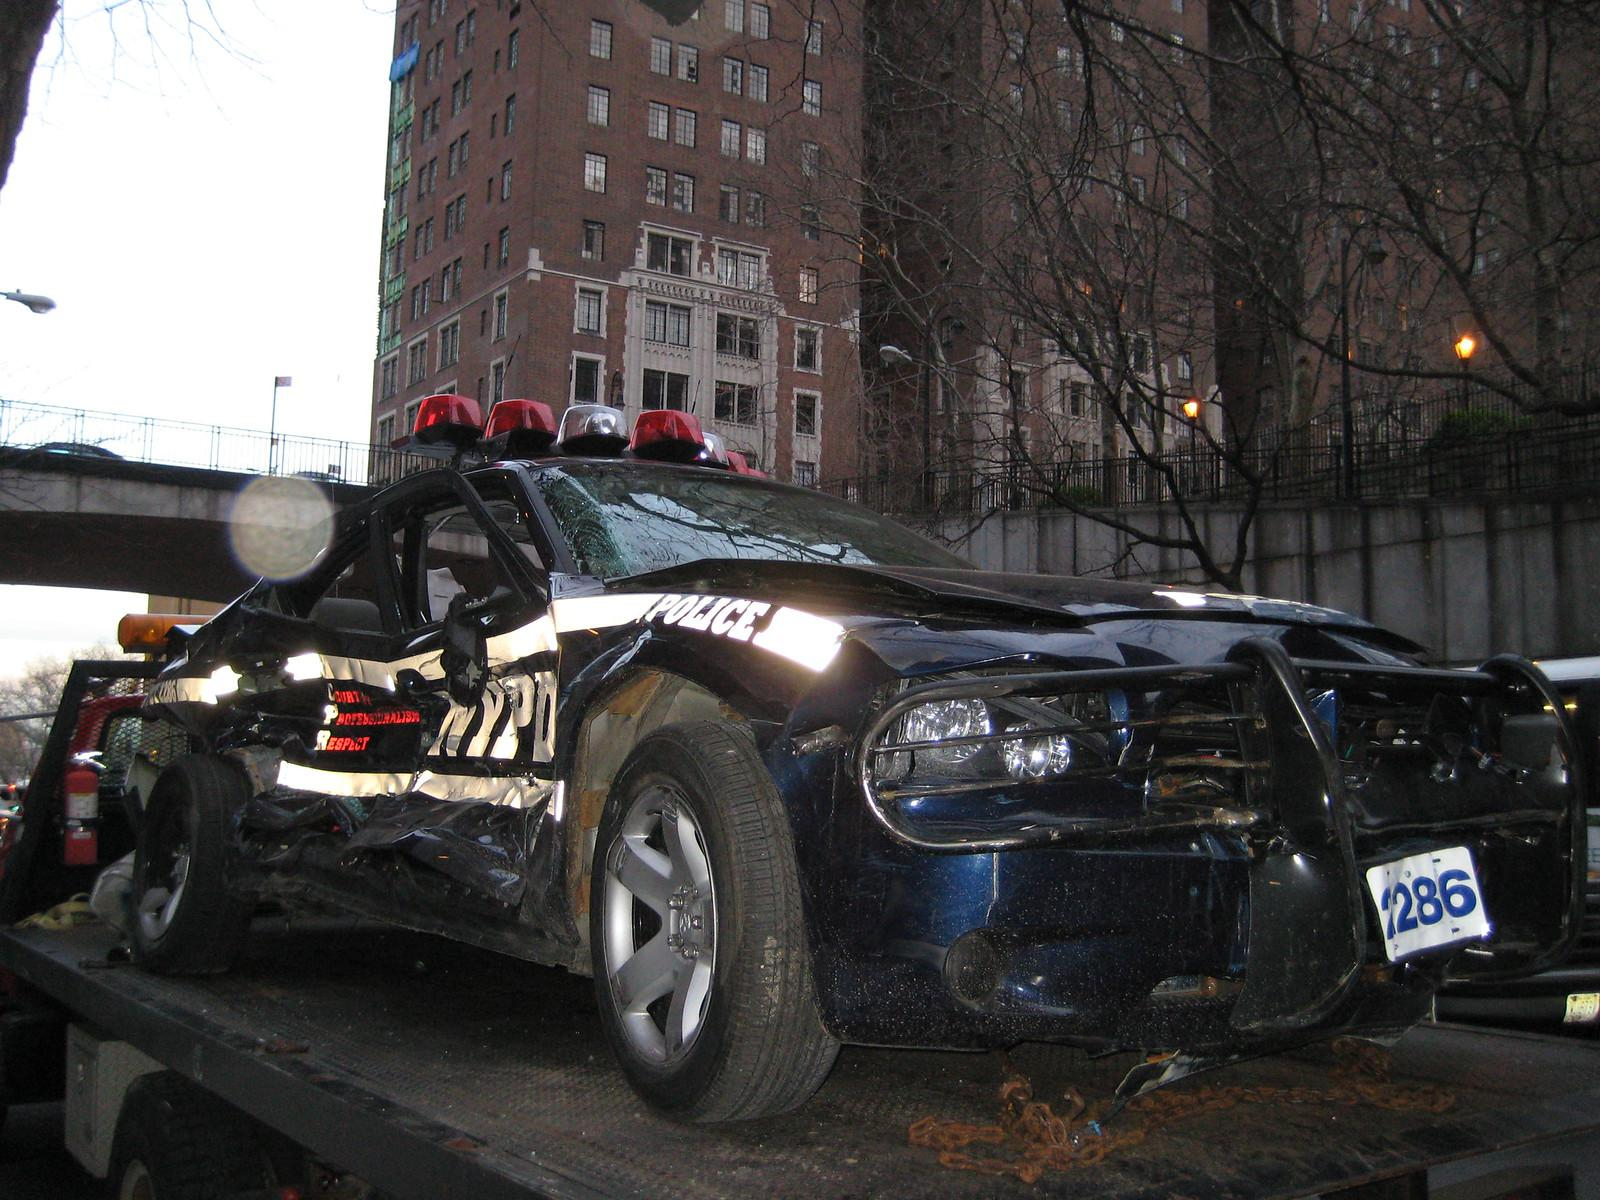bonnet-dent: (611, 529, 1340, 645)
doorouter-dent: (248, 661, 587, 943)
fender-dent: (528, 577, 871, 737)
front-bumper-dent: (821, 653, 1599, 1003)
